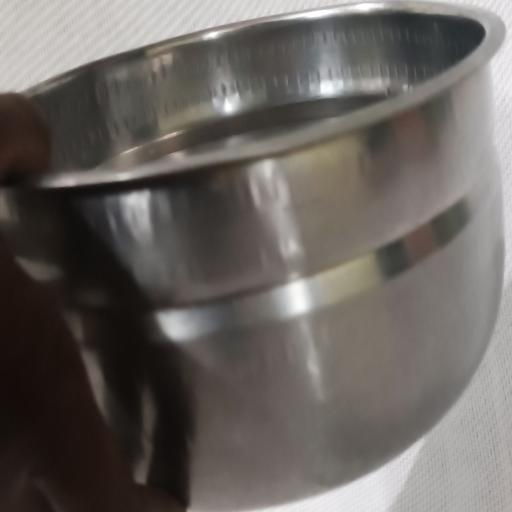vessel: (0, 1, 504, 510)
